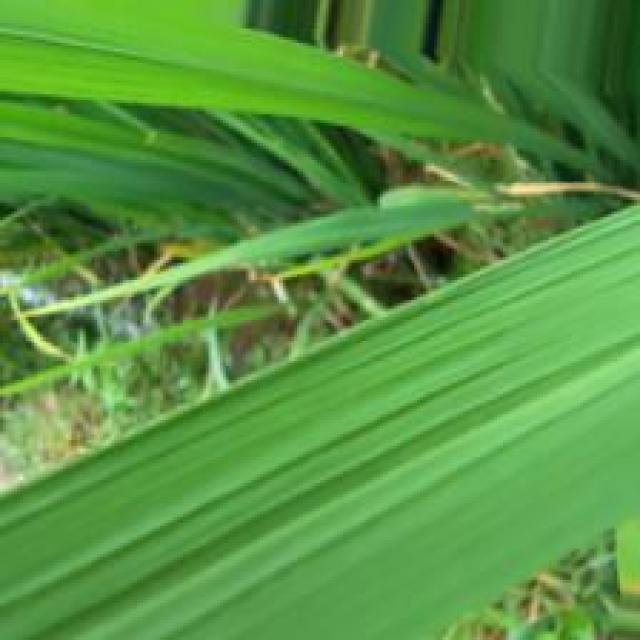HealthyLeaf: (0, 207, 638, 638)
